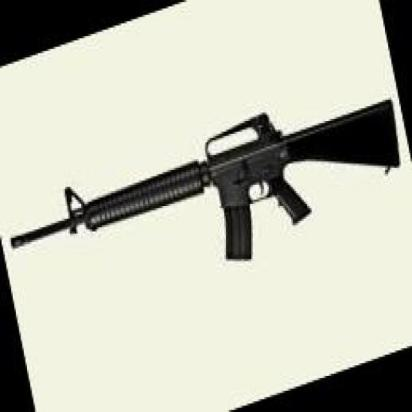Gun: (10, 97, 397, 262)
